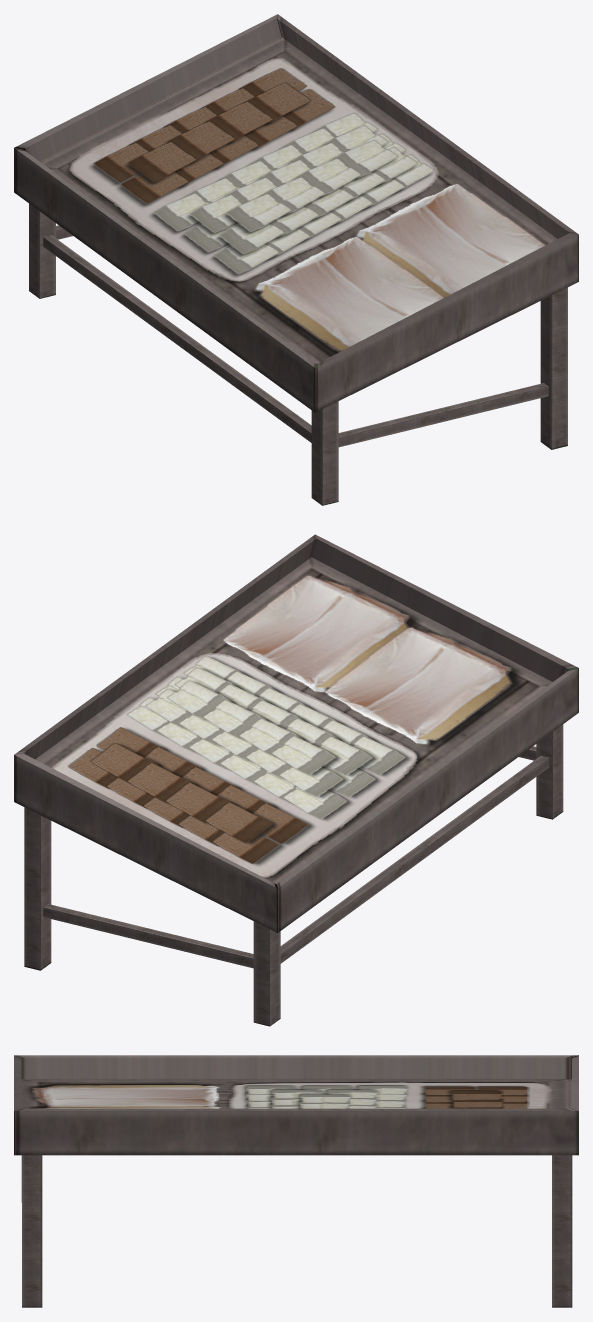
Rendered from dubu_gage.FBX.
The picture shows the model from 3 angles, top to bottom: view 1: azimuth 30°, elevation 25°; view 2: azimuth 150°, elevation 25°; view 3: azimuth 270°, elevation 25°; orthographic projection. The views are drawn at different scales.
Parts seen in each view (by area): view 1: polySurface25; view 2: polySurface25; view 3: polySurface25.
Boxes of the visible parts, x1,y1,x2,y2 form: polySurface25: [14, 14, 578, 505]; polySurface25: [14, 534, 578, 1026]; polySurface25: [14, 1055, 578, 1307].
Bounding box in the file's own units: 14.28 × 11.01 × 28.23.
